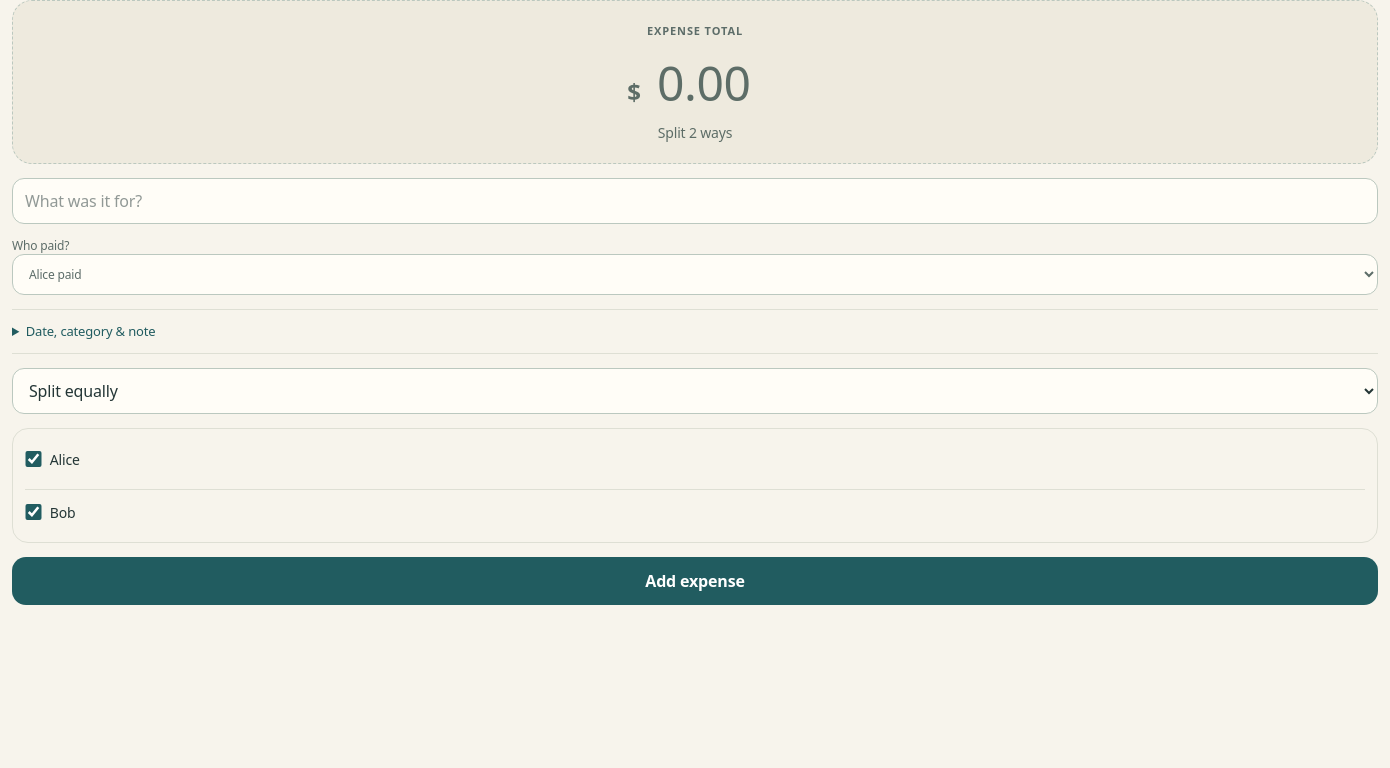
it: what it refuses to send › refuses a zero amount rather than booking a free dinner
The image size is (1390, 768).
In the field named "What the expense was for": (695,200) top-left (12, 178), bottom-right (1378, 224), type "Dinner"
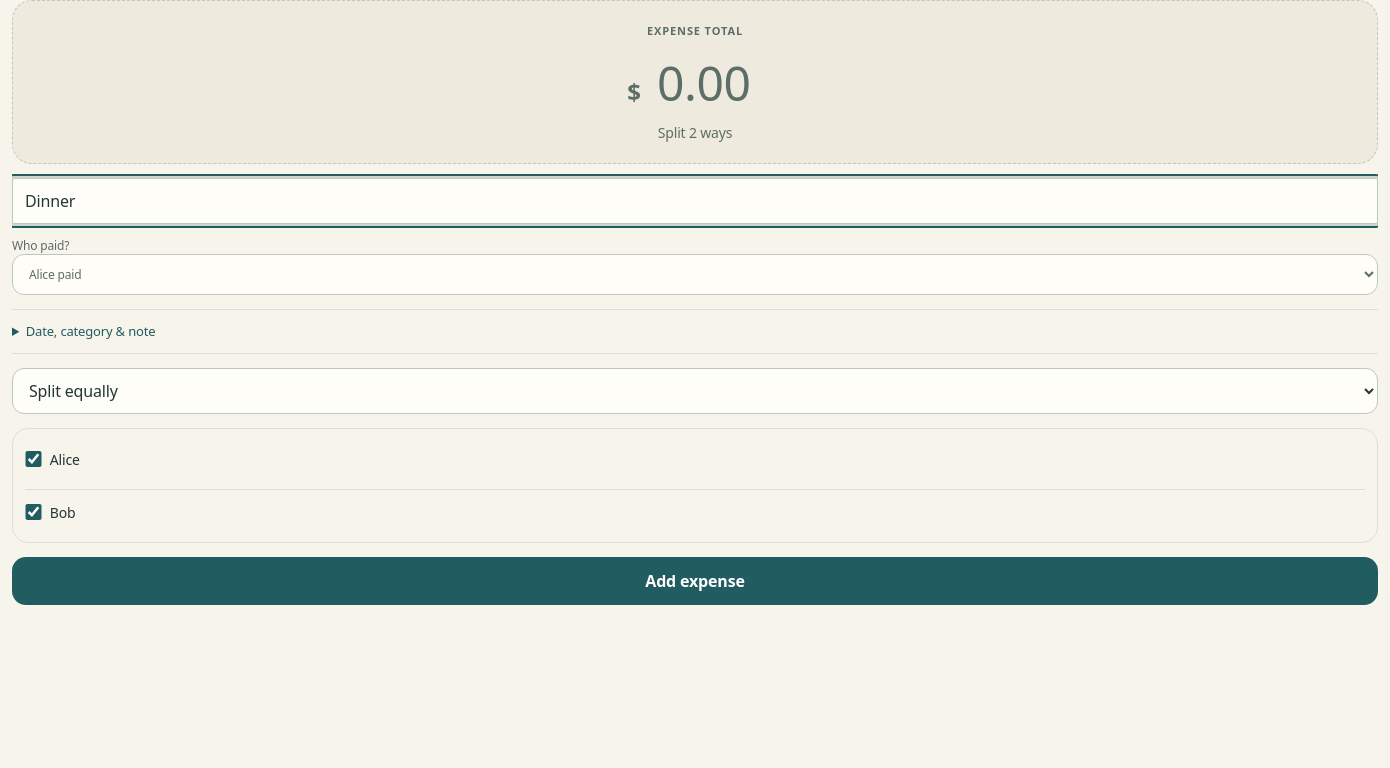
In the field named "Amount": (704,82) top-left (645, 50), bottom-right (763, 114), type "0"
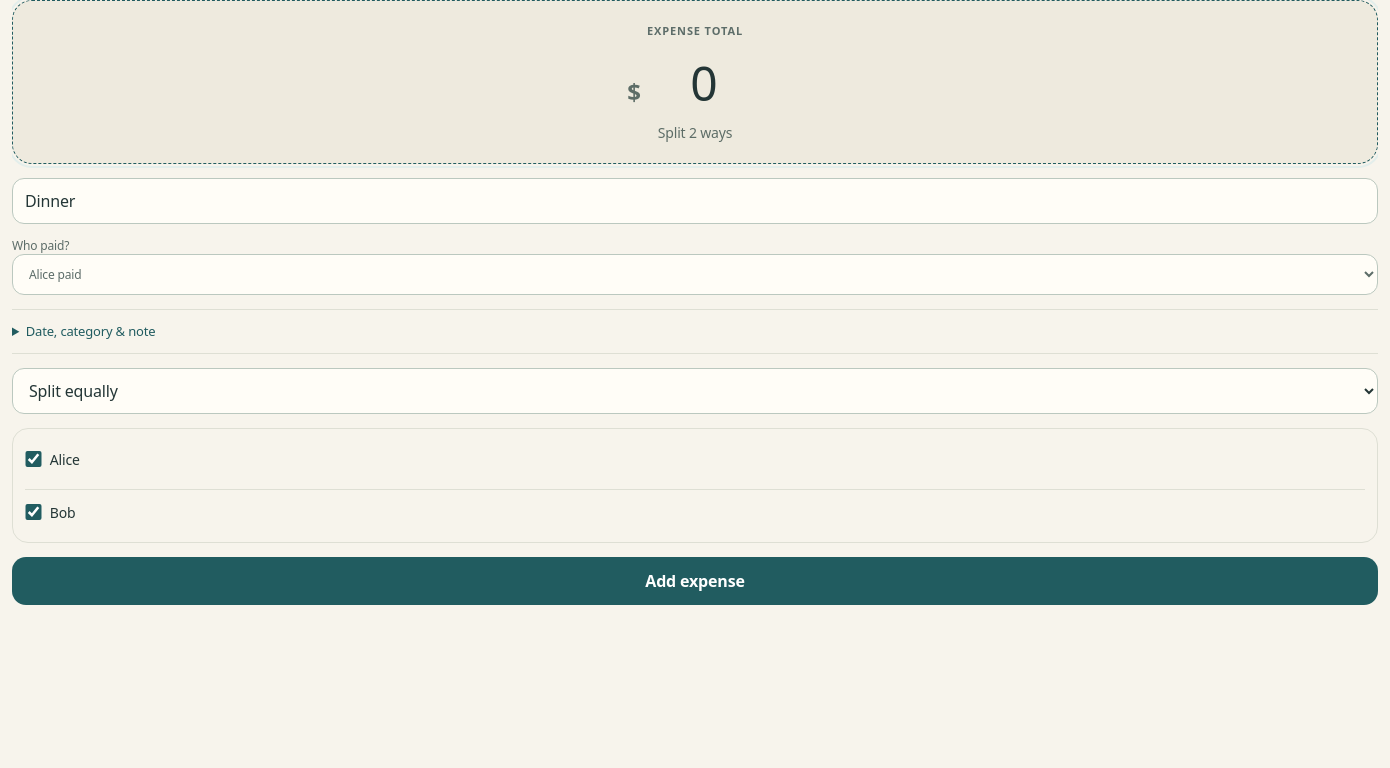
Click the button "Add expense": (695,581) top-left (12, 557), bottom-right (1378, 605)
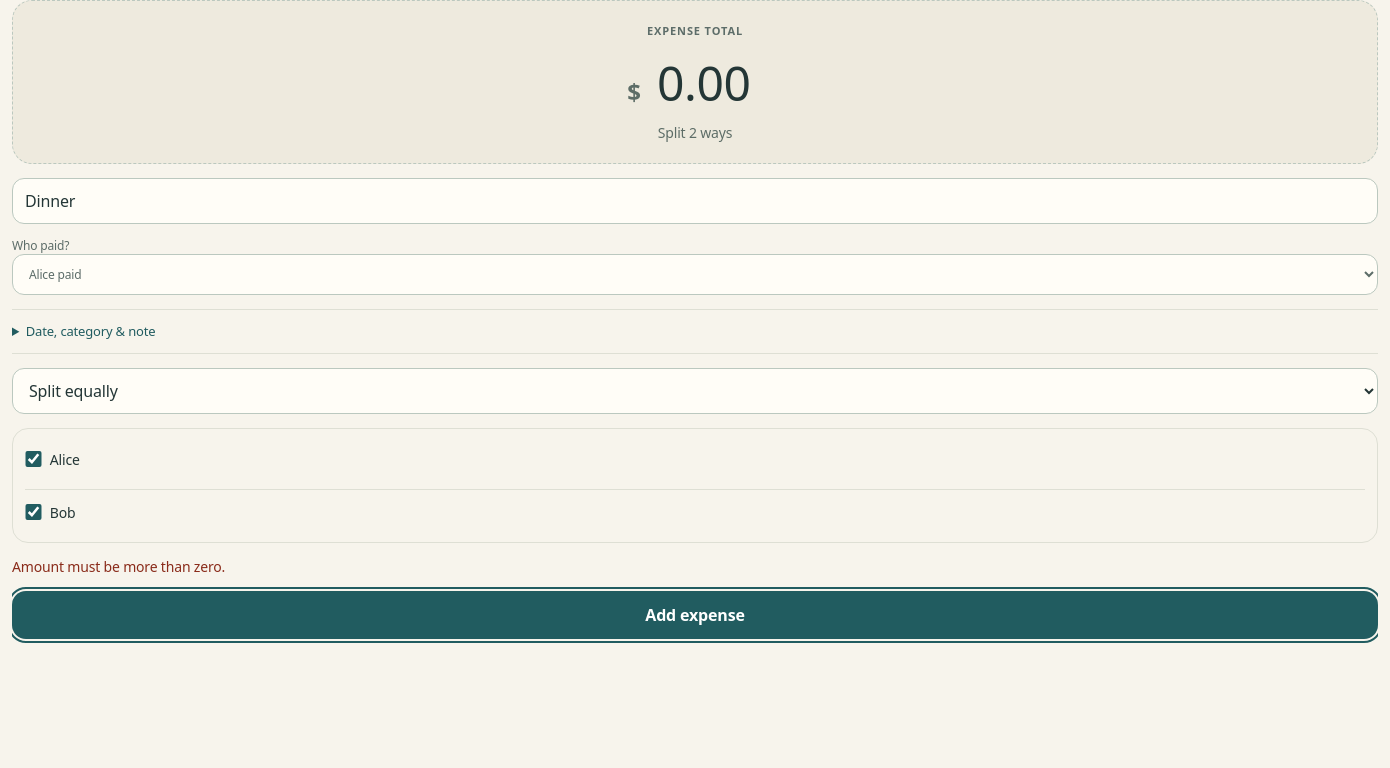
Expected: the message reads "Amount must be more than zero.", top-left (12, 557), bottom-right (225, 576)
